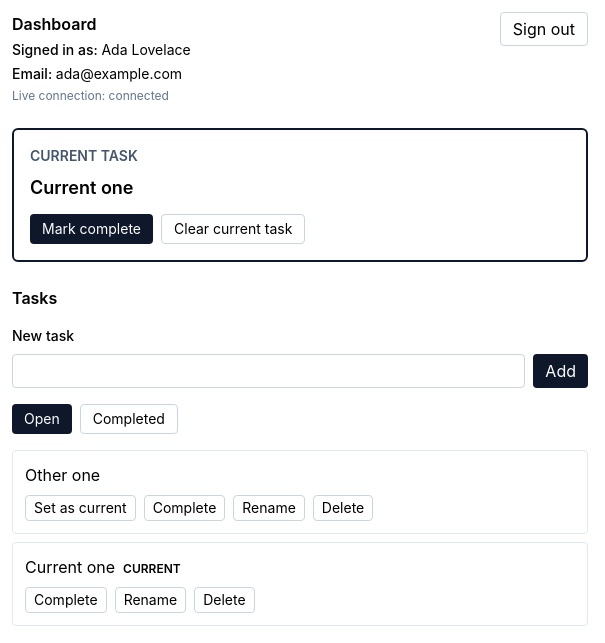
dashboard tasks › completing a different task leaves the current task alone
Expected: the text "Current one" is shown, [30,177,134,198]
What coordinates should you click on to do the following:
click the button "Complete" below "Other one"
I would click on:
 (184, 508)
Its box is [144,495,225,521].
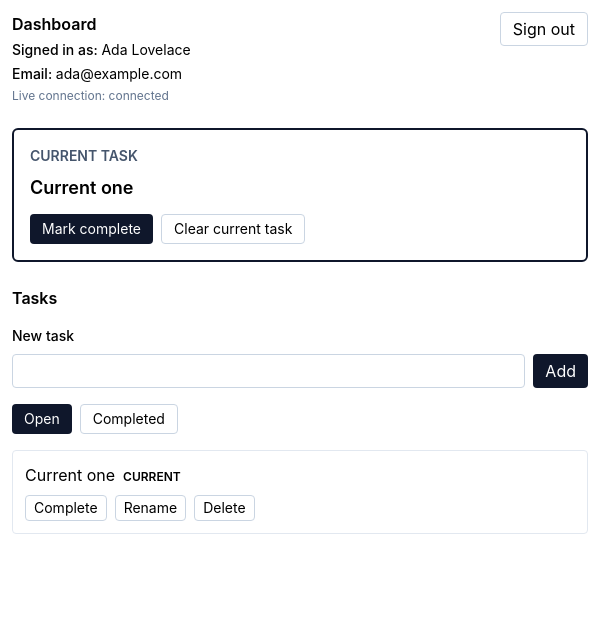
Expected: the text "Current one" is shown, [30,177,134,198]
Now the text "Other one" is gone
